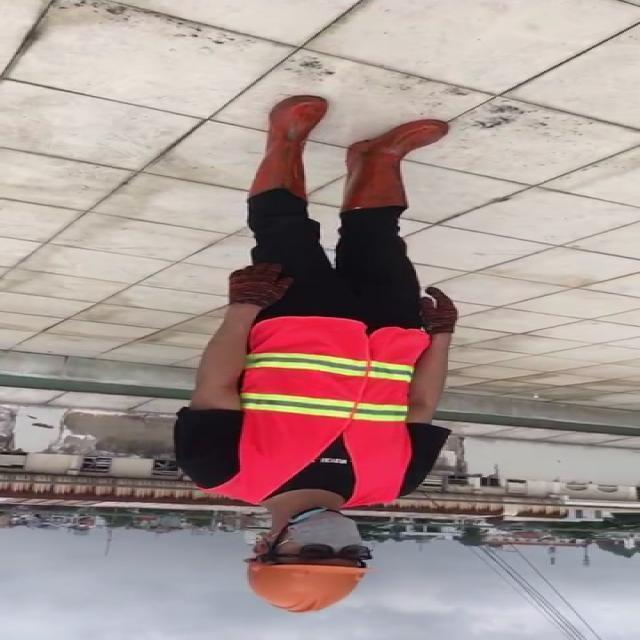gloves: (220, 262, 293, 319), (407, 283, 470, 344)
